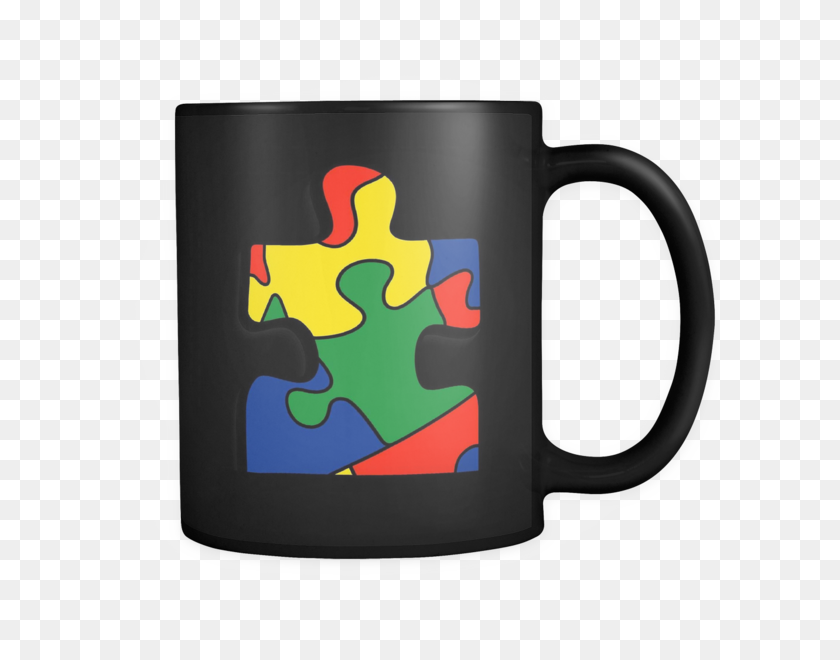puzzle piece: (228, 150, 489, 497)
